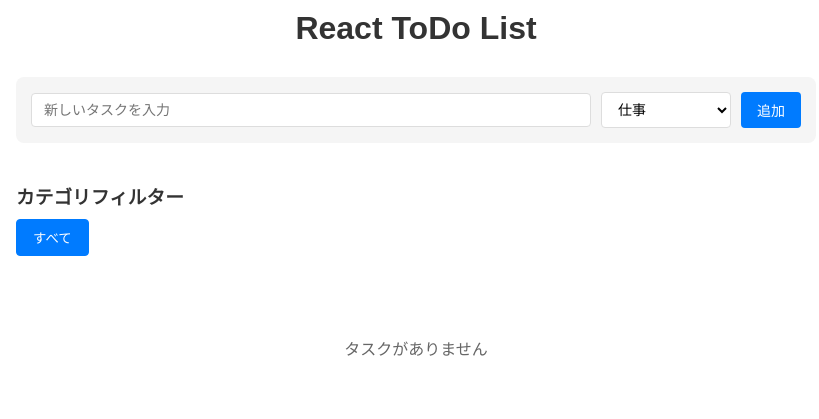
Test case: App Integration Tests › filters todos by category
In the field with placeholder "新しいタスクを入力": x=311, y=110 [31,93,591,127], type "Work todo"
Click the button "追加": x=771, y=110 [741,92,801,128]
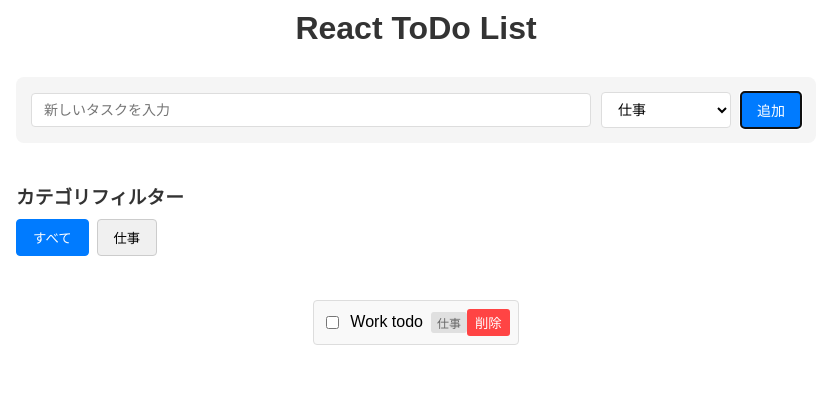
Select "プライベート" in the dropdown showing "仕事": x=666, y=110 [601,92,731,128]
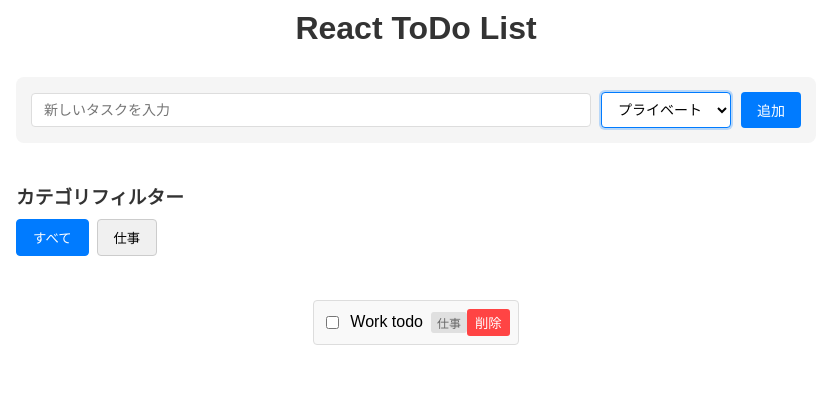
In the field with placeholder "新しいタスクを入力": x=311, y=110 [31,93,591,127], type "Personal todo"
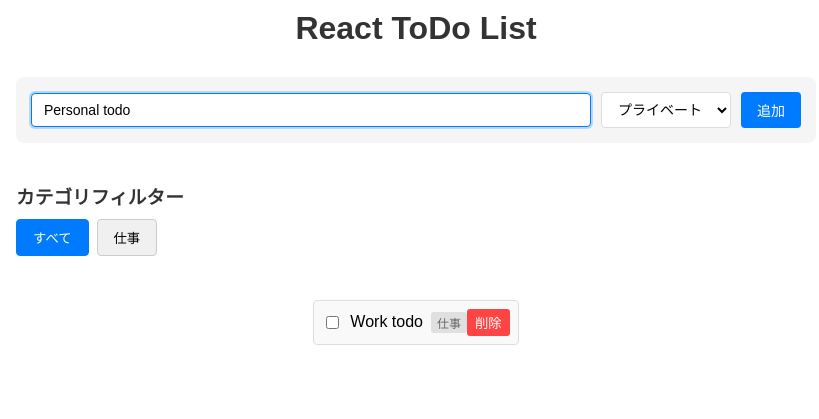
Click the button "追加": x=771, y=110 [741,92,801,128]
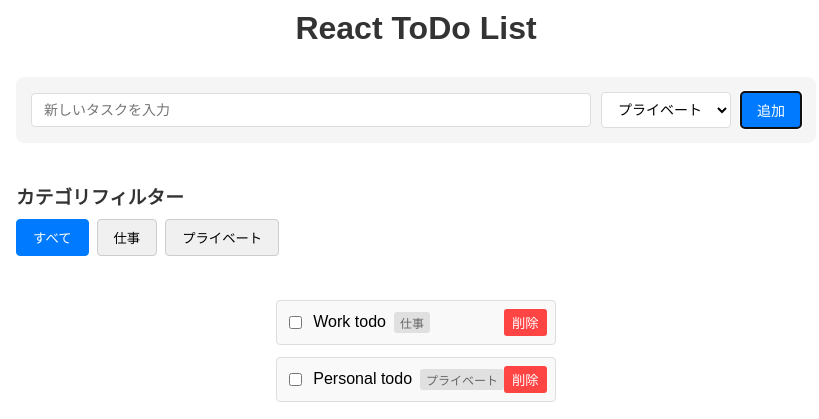
Expected: the text "Work todo" is shown, [313,313,386,331]
Expected: the text "Personal todo" is shown, [313,370,412,388]
Click the button "仕事": x=127, y=237 [96,219,157,256]
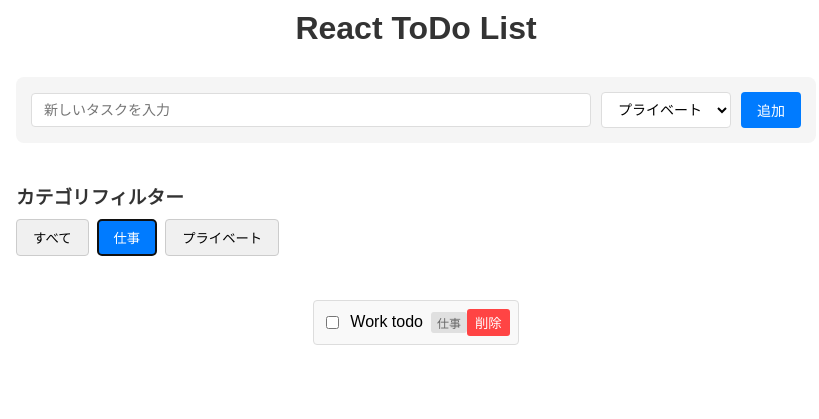
Expected: the text "Work todo" is shown, [350,313,423,331]
Expected: the text "Personal todo" is gone
Click the button "すべて": x=52, y=237 [16,219,88,256]
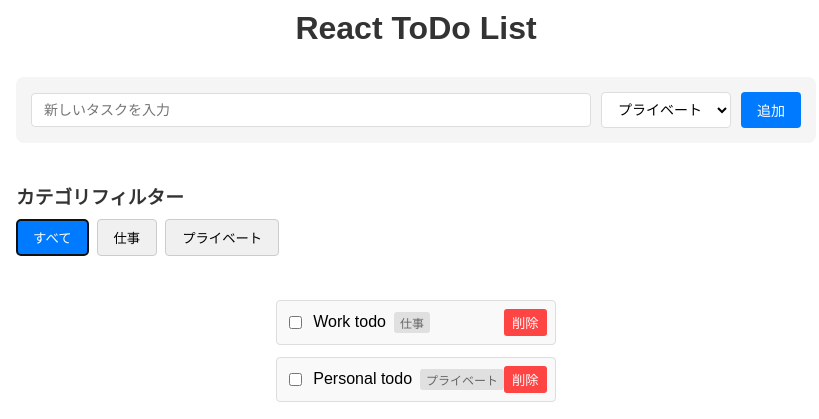
Expected: the text "Work todo" is shown, [313,313,386,331]
Expected: the text "Personal todo" is shown, [313,370,412,388]
